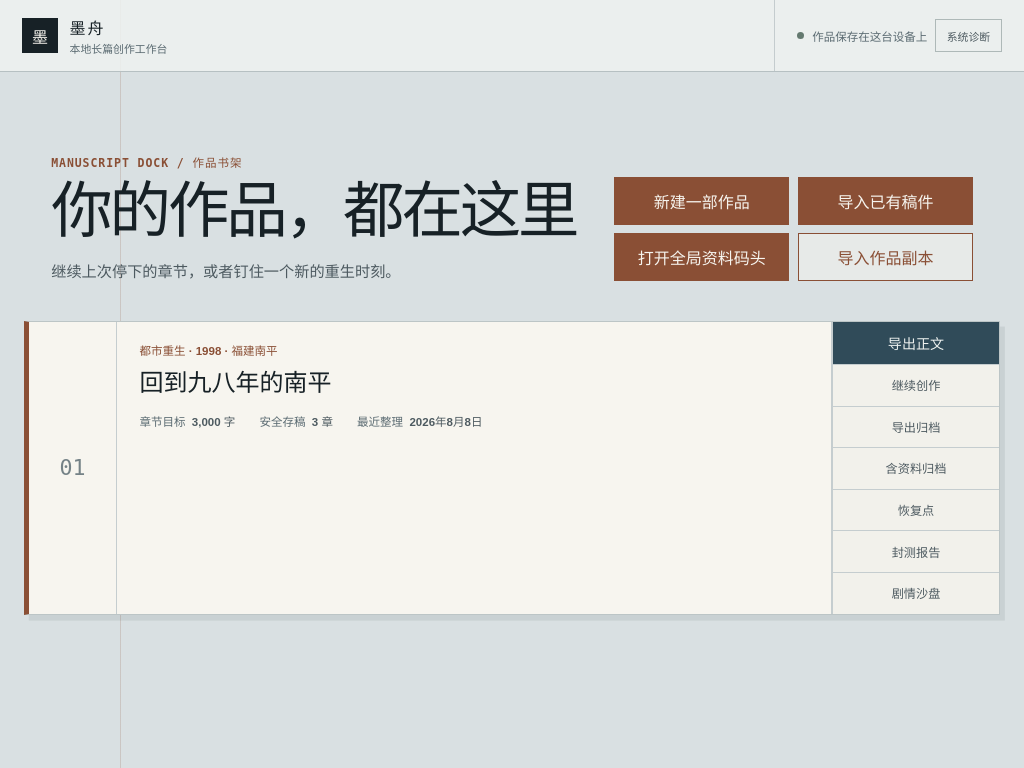
Scenario: App › exports the default project archive without global raw assets
Click the button "导出归档" at (916, 426), box [832,406,999,447]
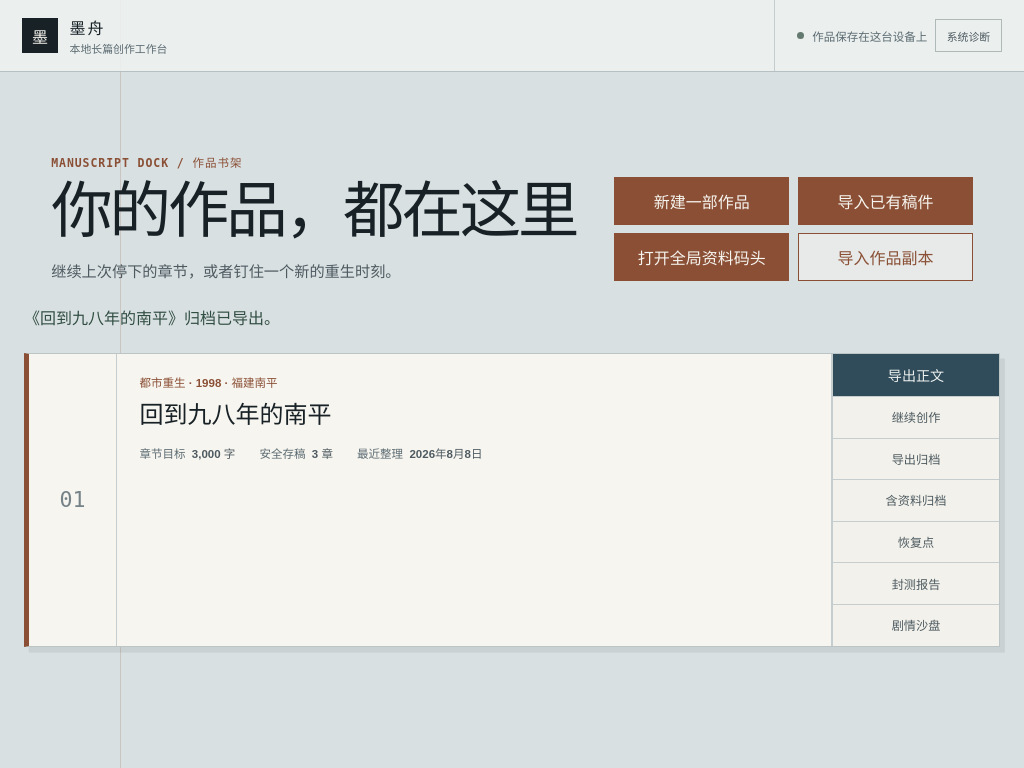
Result: the message shows "归档已导出" at [24,310,280,327]
